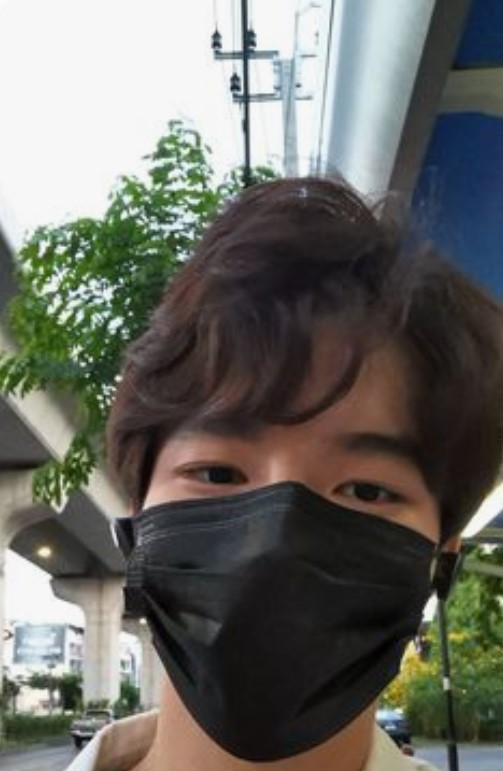face_with_mask: (108, 202, 478, 766)
